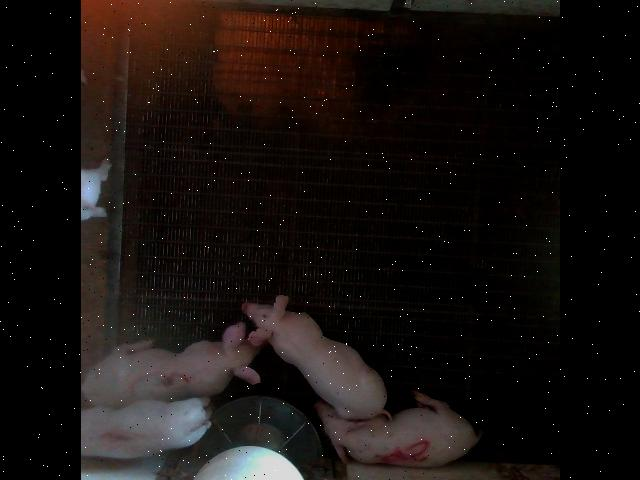pig-1: (81, 398, 210, 456)
pig-3: (82, 322, 260, 408)
pig-5: (314, 391, 481, 468)
